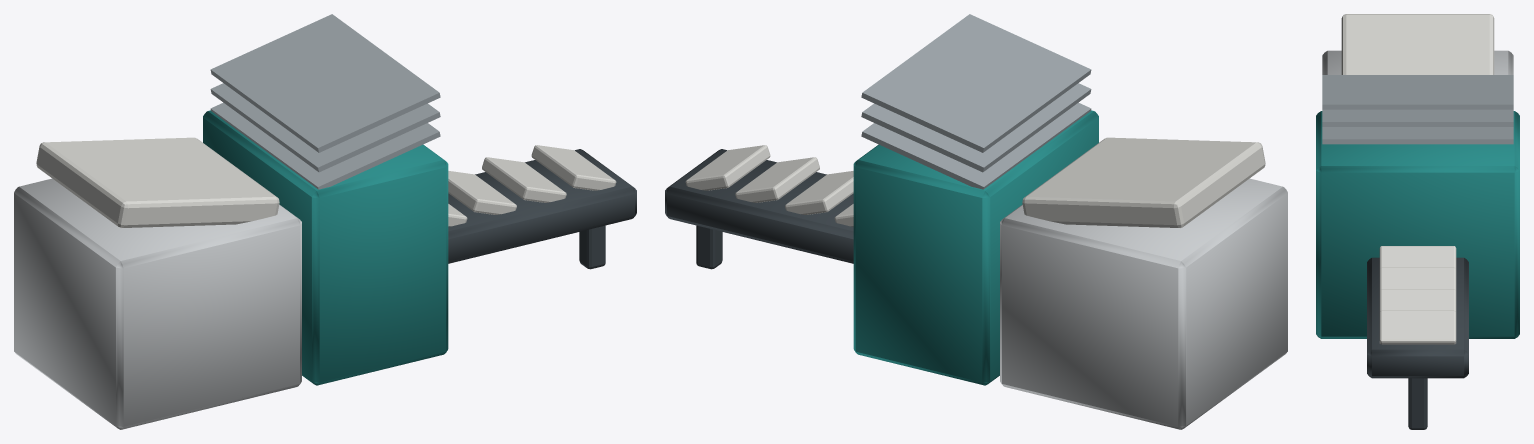
File: m_folder.glb
3 renders of one model, left to right at view 1: azimuth 30°, elevation 25°; view 2: azimuth 150°, elevation 25°; view 3: azimuth 270°, elevation 25°, orthographic. The views are drawn at different scales.
Visible parts, largest first — view 1: m_folder; view 2: m_folder; view 3: m_folder.
Boxes of the visible parts, x1,y1,x2,y2 form: m_folder: (14, 14, 636, 429); m_folder: (665, 14, 1287, 429); m_folder: (1316, 14, 1519, 429).
Size of the model in its own units: 0.88 by 0.4038 by 0.32.
